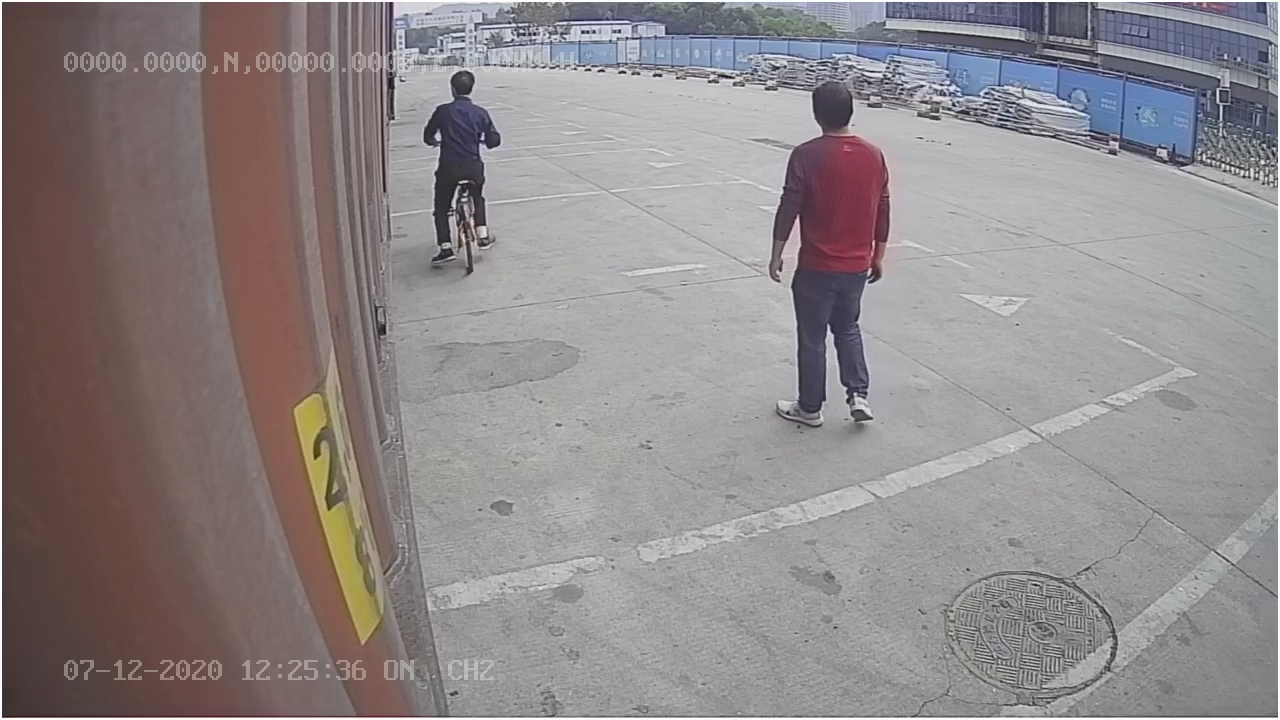person: (764, 71, 892, 428)
